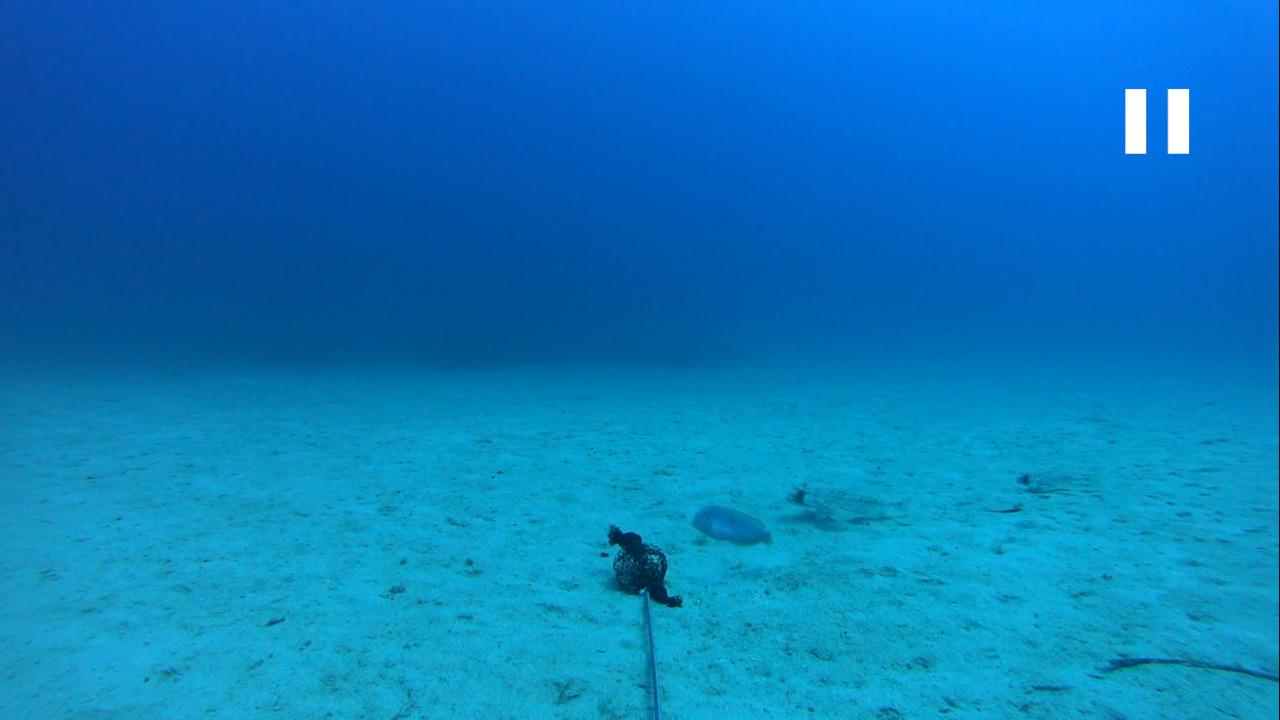dactylopterus: (774, 482, 897, 528), (1004, 468, 1077, 502)
raor: (681, 502, 782, 551)
